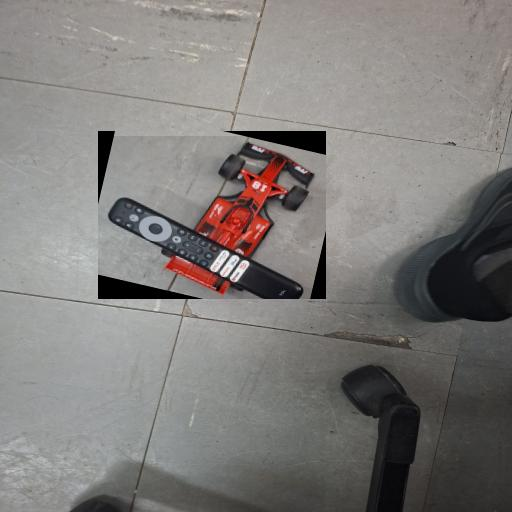carro: (98, 136, 326, 299)
